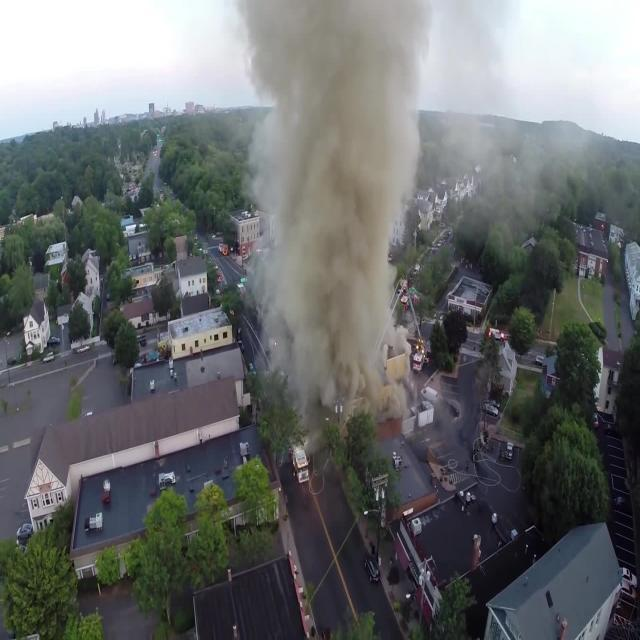Smoke: (232, 1, 450, 408)
